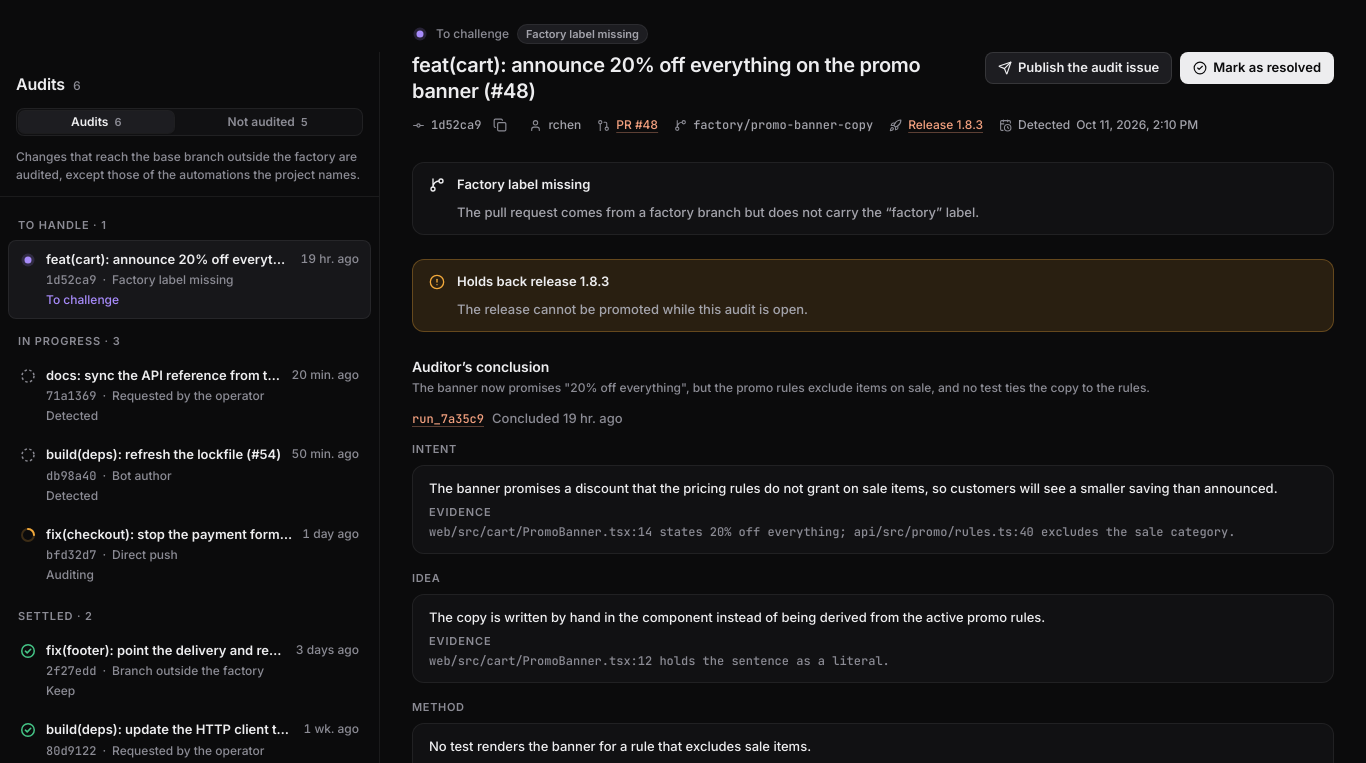
AuditsView publish the audit issue › shows what the factory did once the issue is published
Click the button "Publish the audit issue" at point(1079, 68), box [985, 52, 1172, 84]
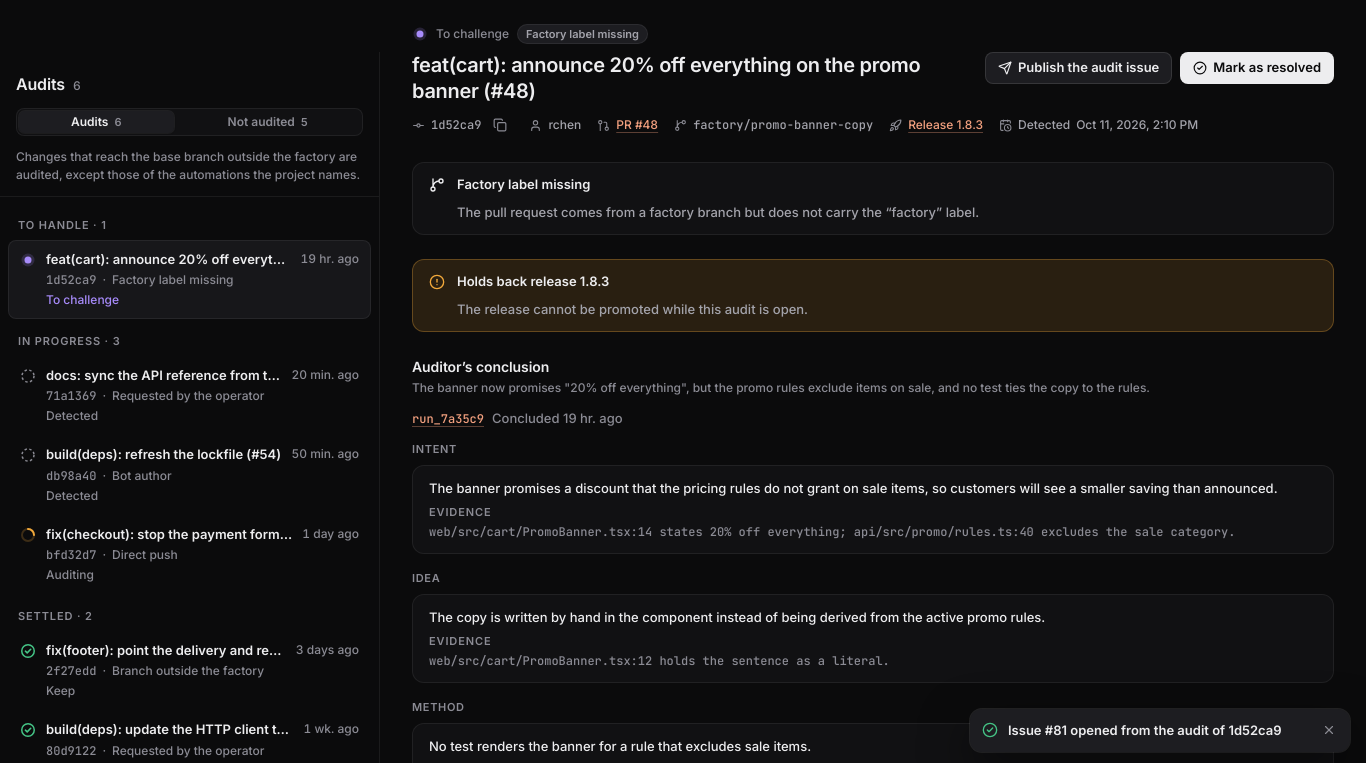
Check: the text "Issue #81 opened from the audit of 1d52ca9" is shown, box [1008, 720, 1310, 740]
